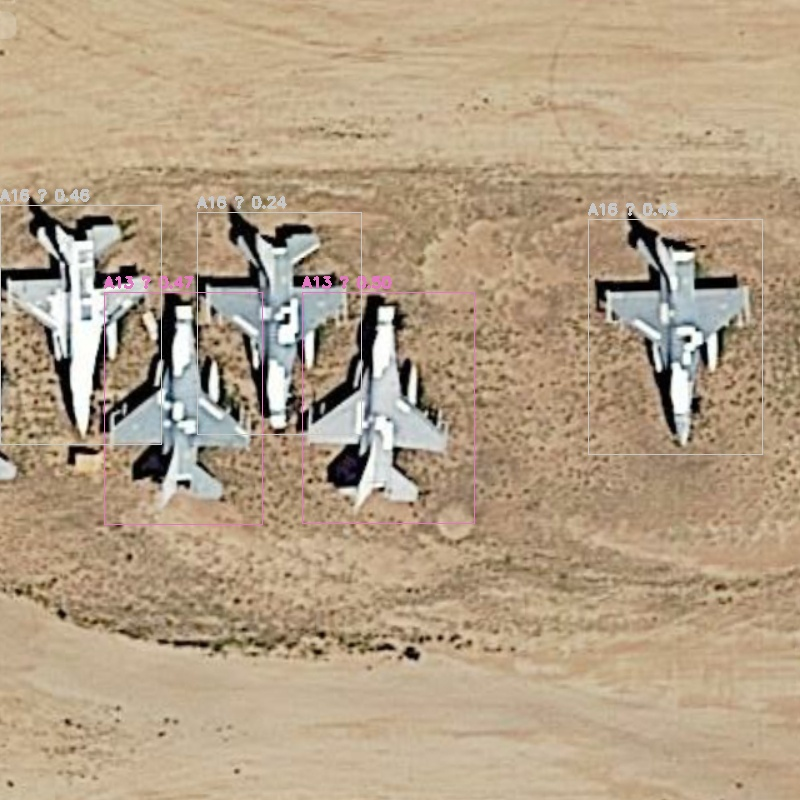A13: (302, 292, 474, 523), (104, 292, 262, 524)
A16: (588, 219, 762, 454), (0, 205, 161, 444), (197, 212, 361, 434)
